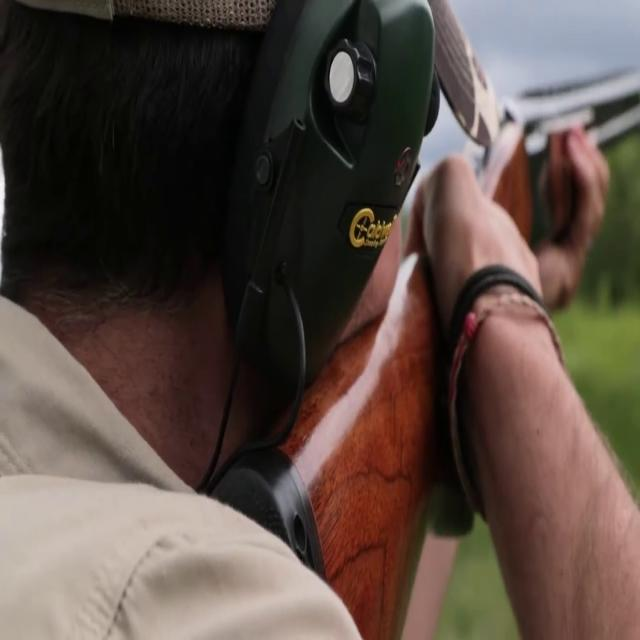earmuff: (216, 0, 439, 407)
